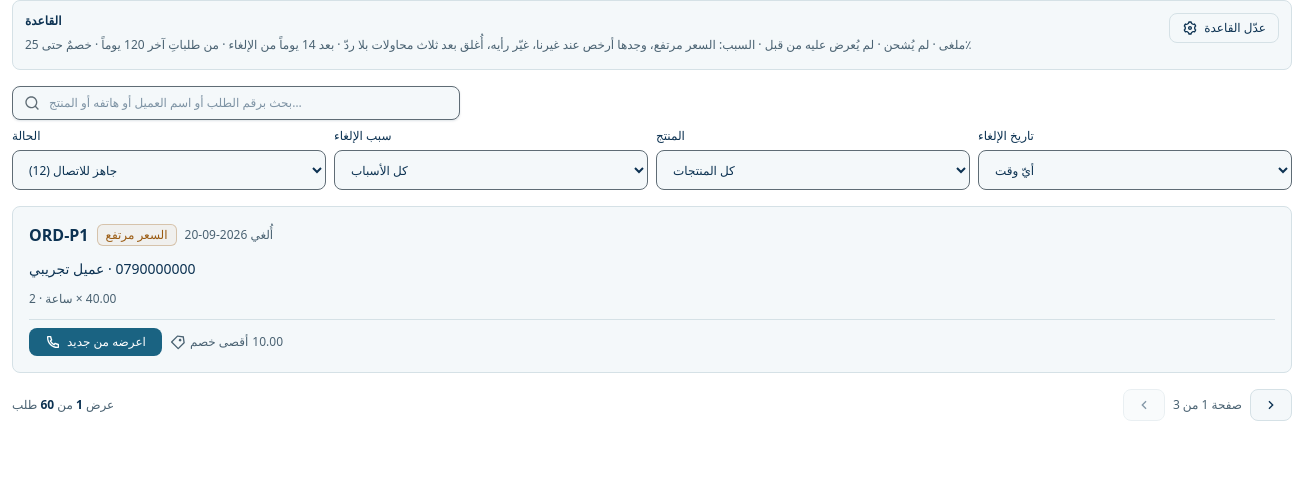
Test: choosing › and «إعادة تعيين» counts what is chosen — a view that is not the default counts — and puts it all back, the search too
Select "ما زال في المهلة (5)" in the dropdown labelled "الحالة" at {"x": 169, "y": 170}, box top-left (12, 150), bottom-right (326, 190)
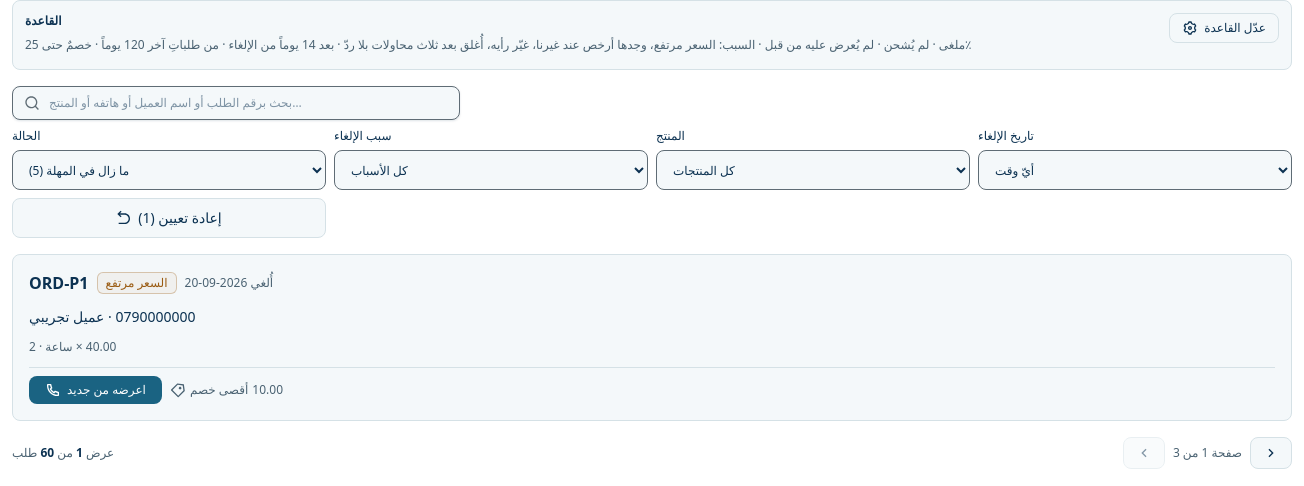
Select "السعر مرتفع (8)" in the dropdown labelled "سبب الإلغاء" at {"x": 491, "y": 170}, box top-left (334, 150), bottom-right (648, 190)
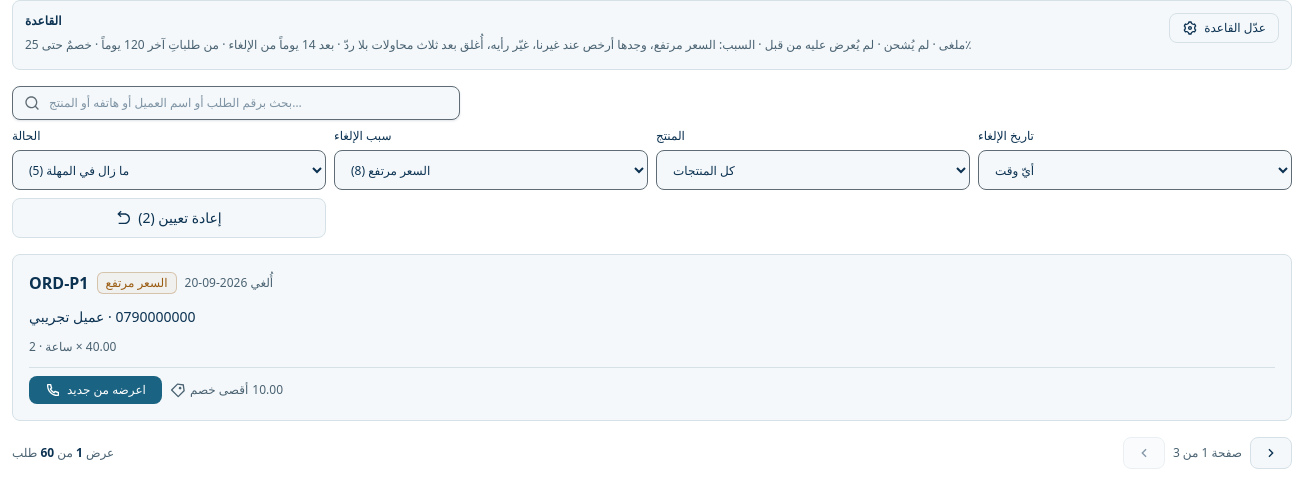
Type "سارة" into the field labelled "بحث برقم الطلب أو اسم العميل أو هاتفه أو المنتج…".
click(236, 103); type("سارة")  # box top-left (12, 86), bottom-right (460, 120)
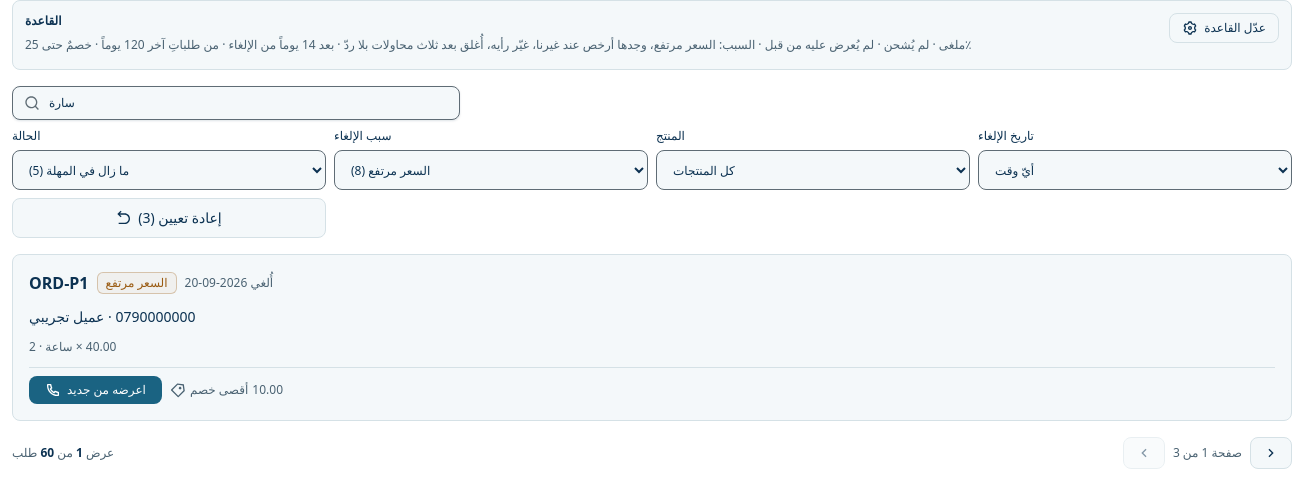
Click the button "إعادة تعيين (3)".
click(169, 218)  # box top-left (12, 198), bottom-right (326, 238)
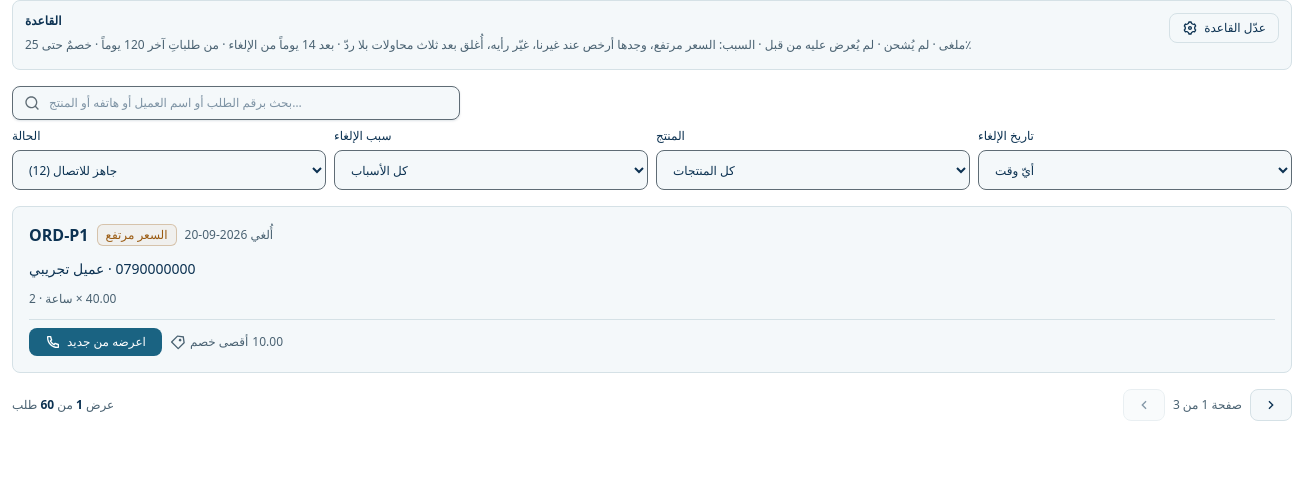
Expected: the button "إعادة تعيين" is gone
Expected: the field labelled "بحث برقم الطلب أو اسم العميل أو هاتفه أو المنتج…" is empty, top-left (12, 86), bottom-right (460, 120)
